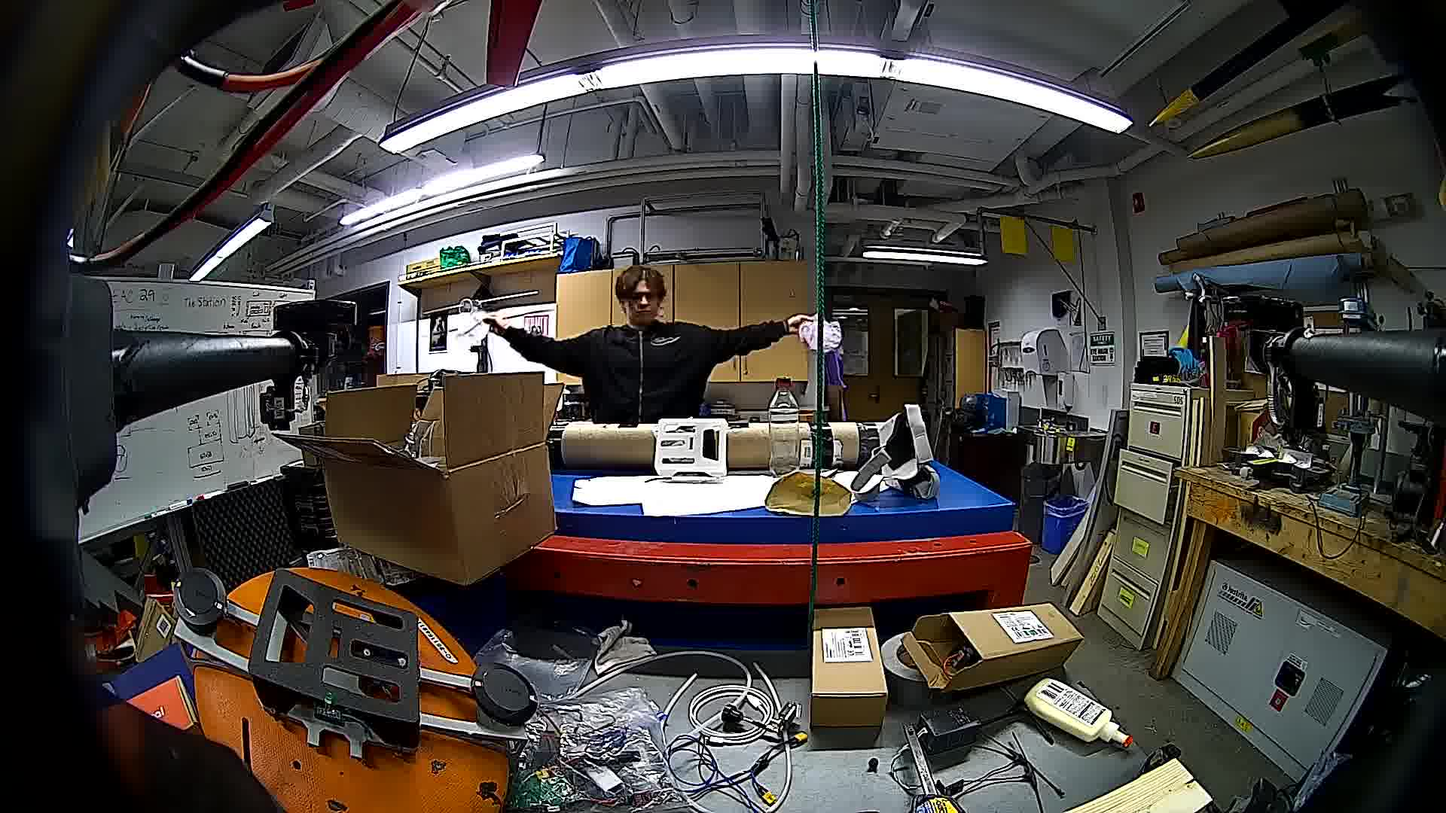Target: (799, 311, 840, 355), (460, 312, 488, 343)
